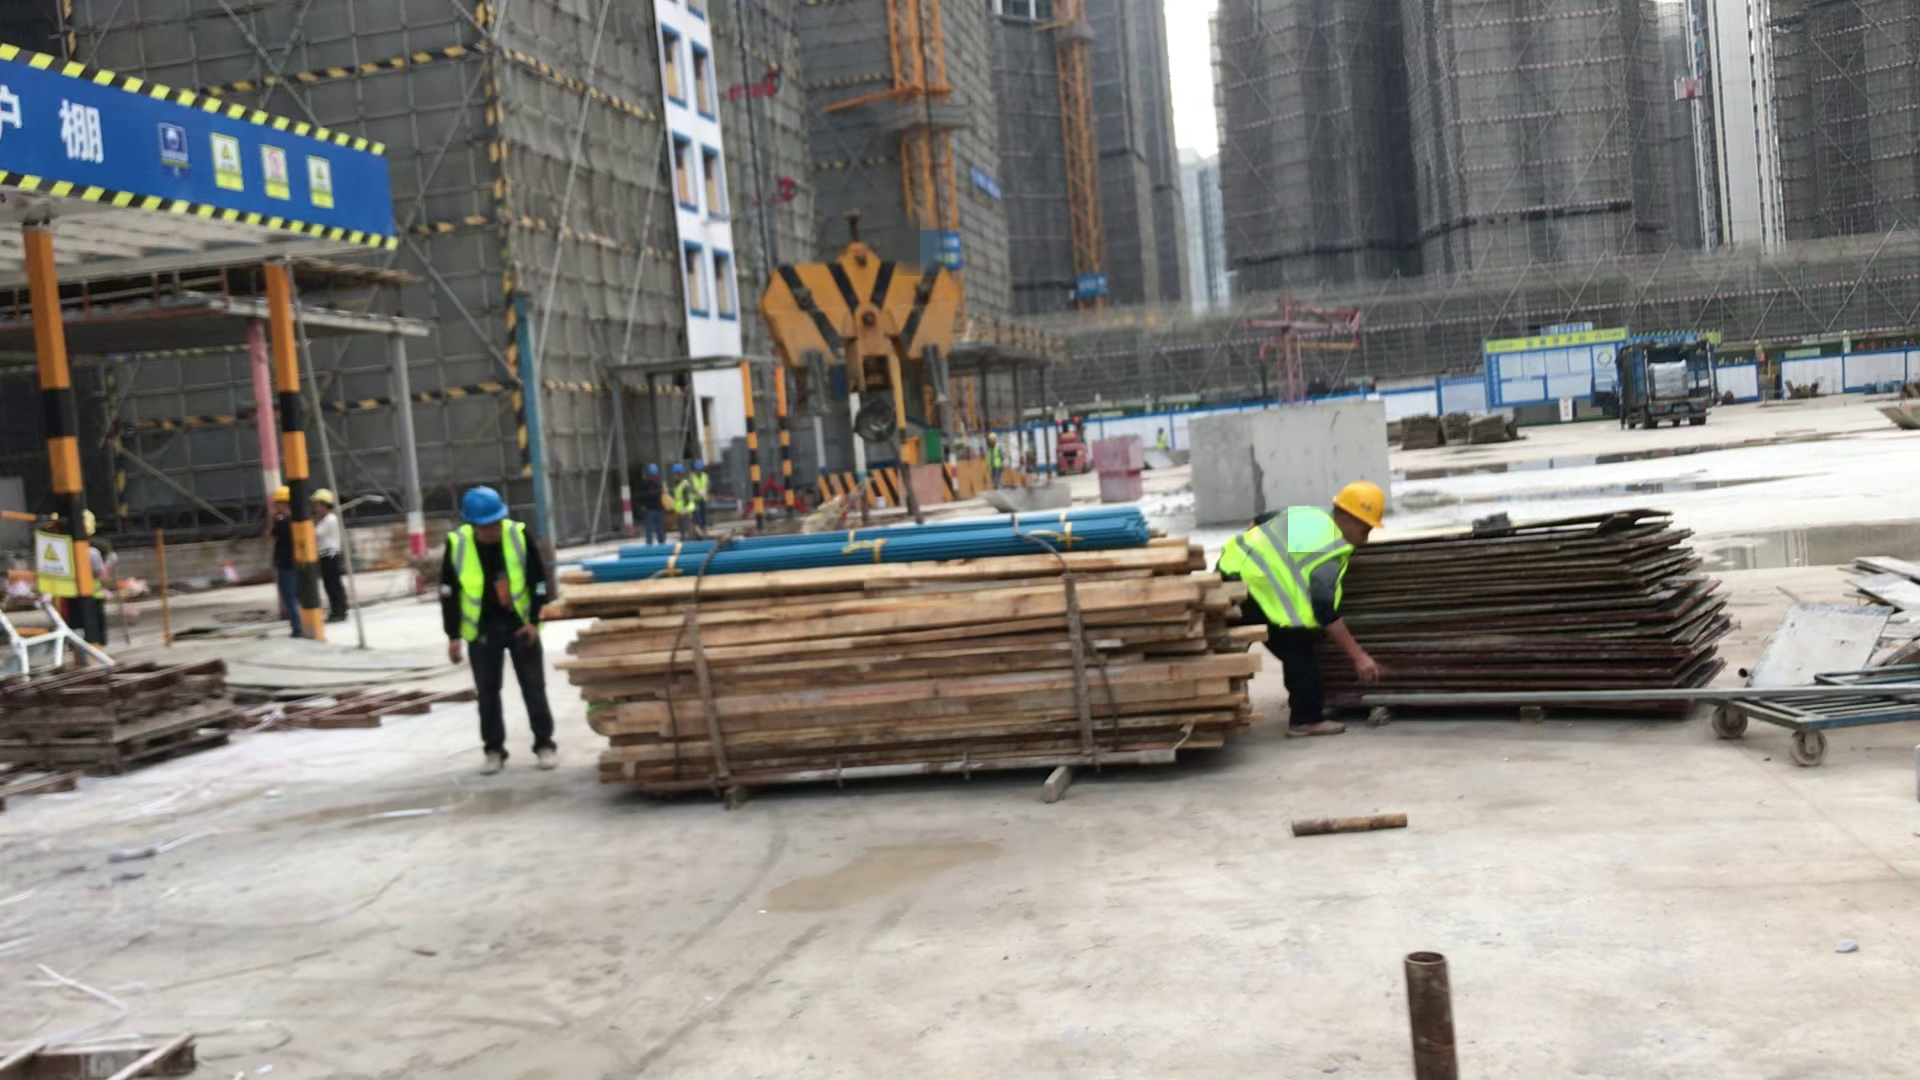board: (1356, 516, 1724, 714)
helmet: (1333, 482, 1383, 530), (459, 488, 507, 525), (310, 488, 334, 505), (272, 486, 290, 500), (645, 464, 658, 476), (671, 464, 684, 474), (694, 462, 704, 472)
hook: (762, 212, 962, 447)
hopper: (990, 487, 1075, 512), (1879, 396, 1920, 430)
person: (1216, 485, 1382, 739), (444, 488, 561, 776), (313, 484, 350, 631), (265, 489, 300, 641), (639, 461, 663, 546), (671, 465, 693, 542), (689, 461, 709, 539), (986, 431, 1008, 492)
slogan: (155, 134, 336, 204), (31, 529, 74, 600), (973, 165, 1006, 199)
vest: (1227, 507, 1354, 637), (449, 524, 528, 639), (671, 481, 693, 514), (692, 473, 708, 493)
wood: (583, 558, 1247, 760)
